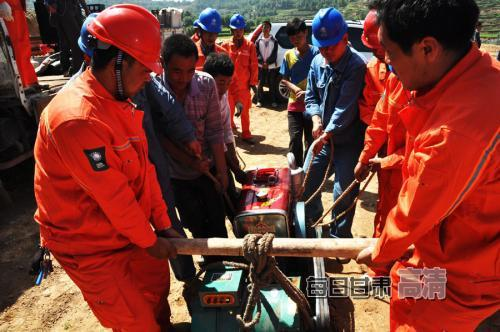head: (375, 2, 480, 100), (161, 31, 200, 94), (202, 51, 236, 100), (285, 19, 310, 49), (258, 18, 274, 40)
helmet: (82, 5, 170, 98), (362, 8, 404, 72), (315, 6, 347, 58), (194, 9, 223, 46), (231, 13, 250, 44)
